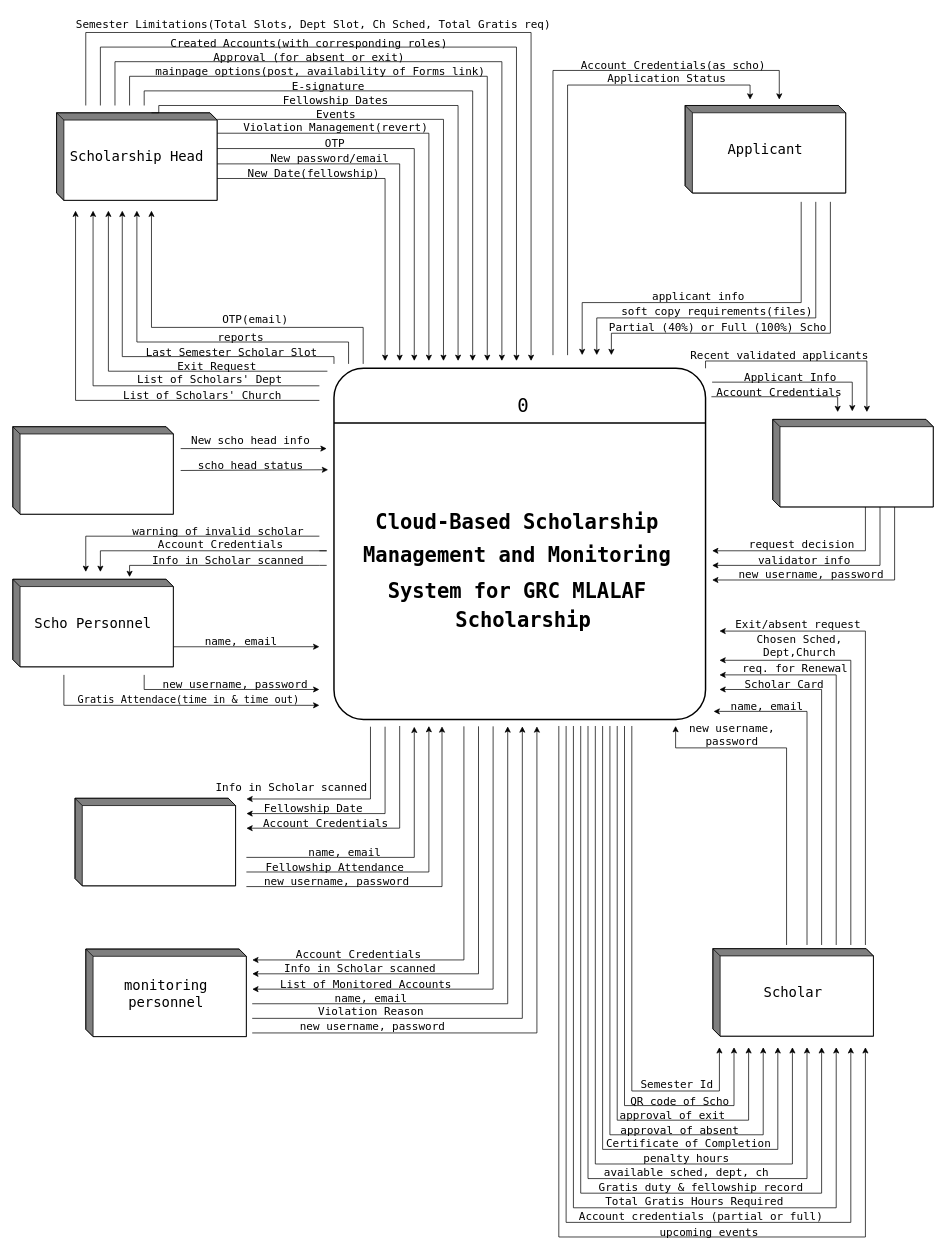
This 946x1256 diagram has some shape labels left out. Each missing label, with the centre of its shape:
Church Personnel: pixel 155 842
School Head: pixel 92 470
Validator: pixel 852 463
